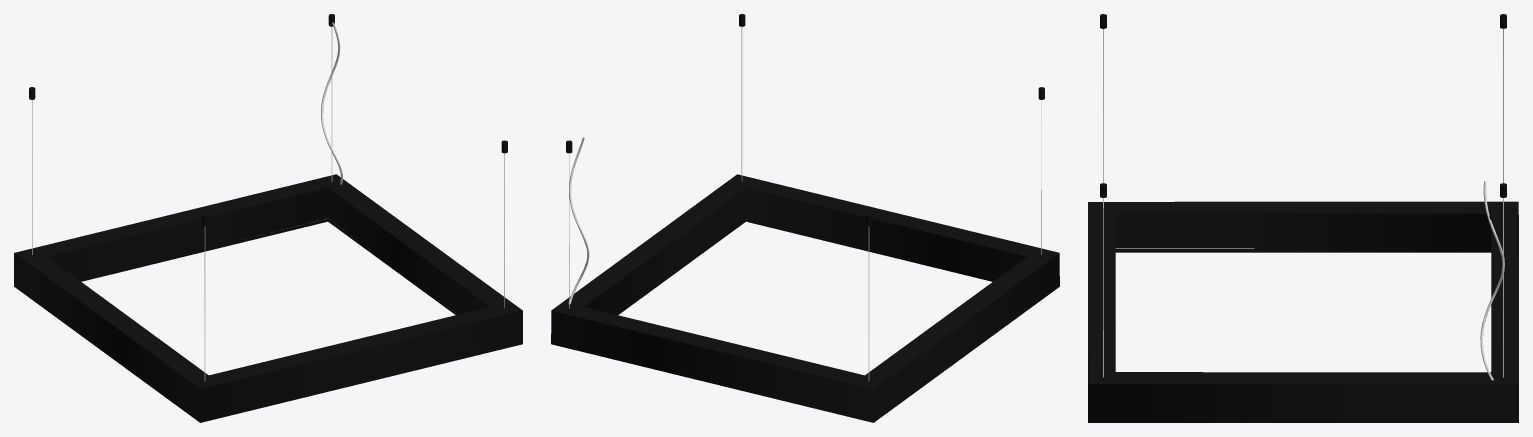
File: Ceiling Lamp 15.FBX
3 renders of one model, left to right at view 1: azimuth 30°, elevation 25°; view 2: azimuth 150°, elevation 25°; view 3: azimuth 270°, elevation 25°, orthographic. The views are drawn at different scales.
Parts seen in each view (by area): view 1: Ceiling lamp 15; view 2: Ceiling lamp 15; view 3: Ceiling lamp 15.
Part boxes in pixels (x1,y1,x2,y2): Ceiling lamp 15: (14,14,522,422); Ceiling lamp 15: (551,14,1059,422); Ceiling lamp 15: (1088,14,1518,422).
Bounding box in the file's own units: 62.51 × 37.1 × 62.51.
Materials: 2 (1 with a texture image).
